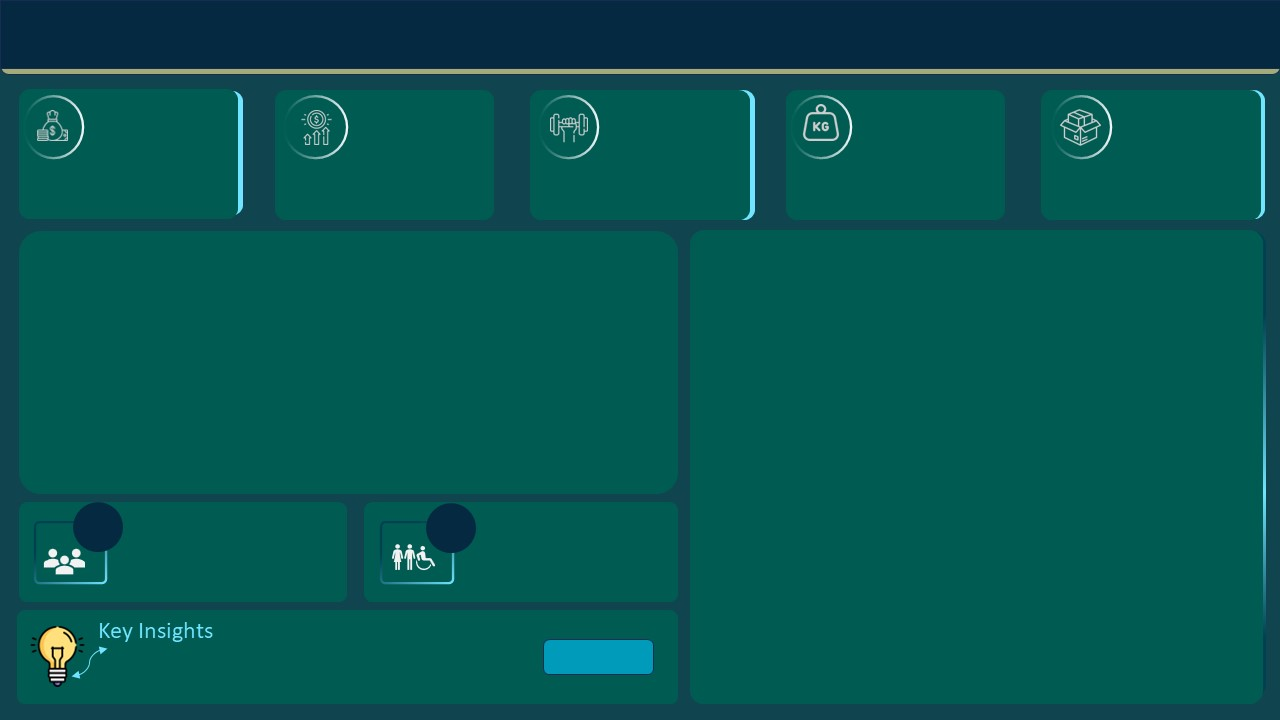

Layout of this report page (visuals, bound fields, positions):
{"tool":"powerbi","page":{"name":"Key Insights","canvas":[1280,720],"ordinal":2},"visuals":[{"type":"textbox","box":[205.8,15.1,867,53],"z":0},{"type":"actionButton","box":[18.2,22.7,99.9,39.3],"z":1000},{"type":"textbox","box":[45.4,115,1186.2,562.8],"z":2000}]}

Visuals, with their boxes in screenshot pixels (x1, y1, x2, y2), scaled from the page's 1280x720 canvas onto the 1280x720 screenshot:
textbox: <region>206, 15, 1073, 68</region>
actionButton: <region>18, 23, 118, 62</region>
textbox: <region>45, 115, 1232, 678</region>
